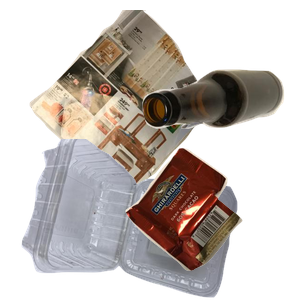glass: (140, 67, 300, 188)
paper: (27, 10, 230, 190)
plastic: (19, 139, 249, 300)
trash: (123, 145, 300, 300)
